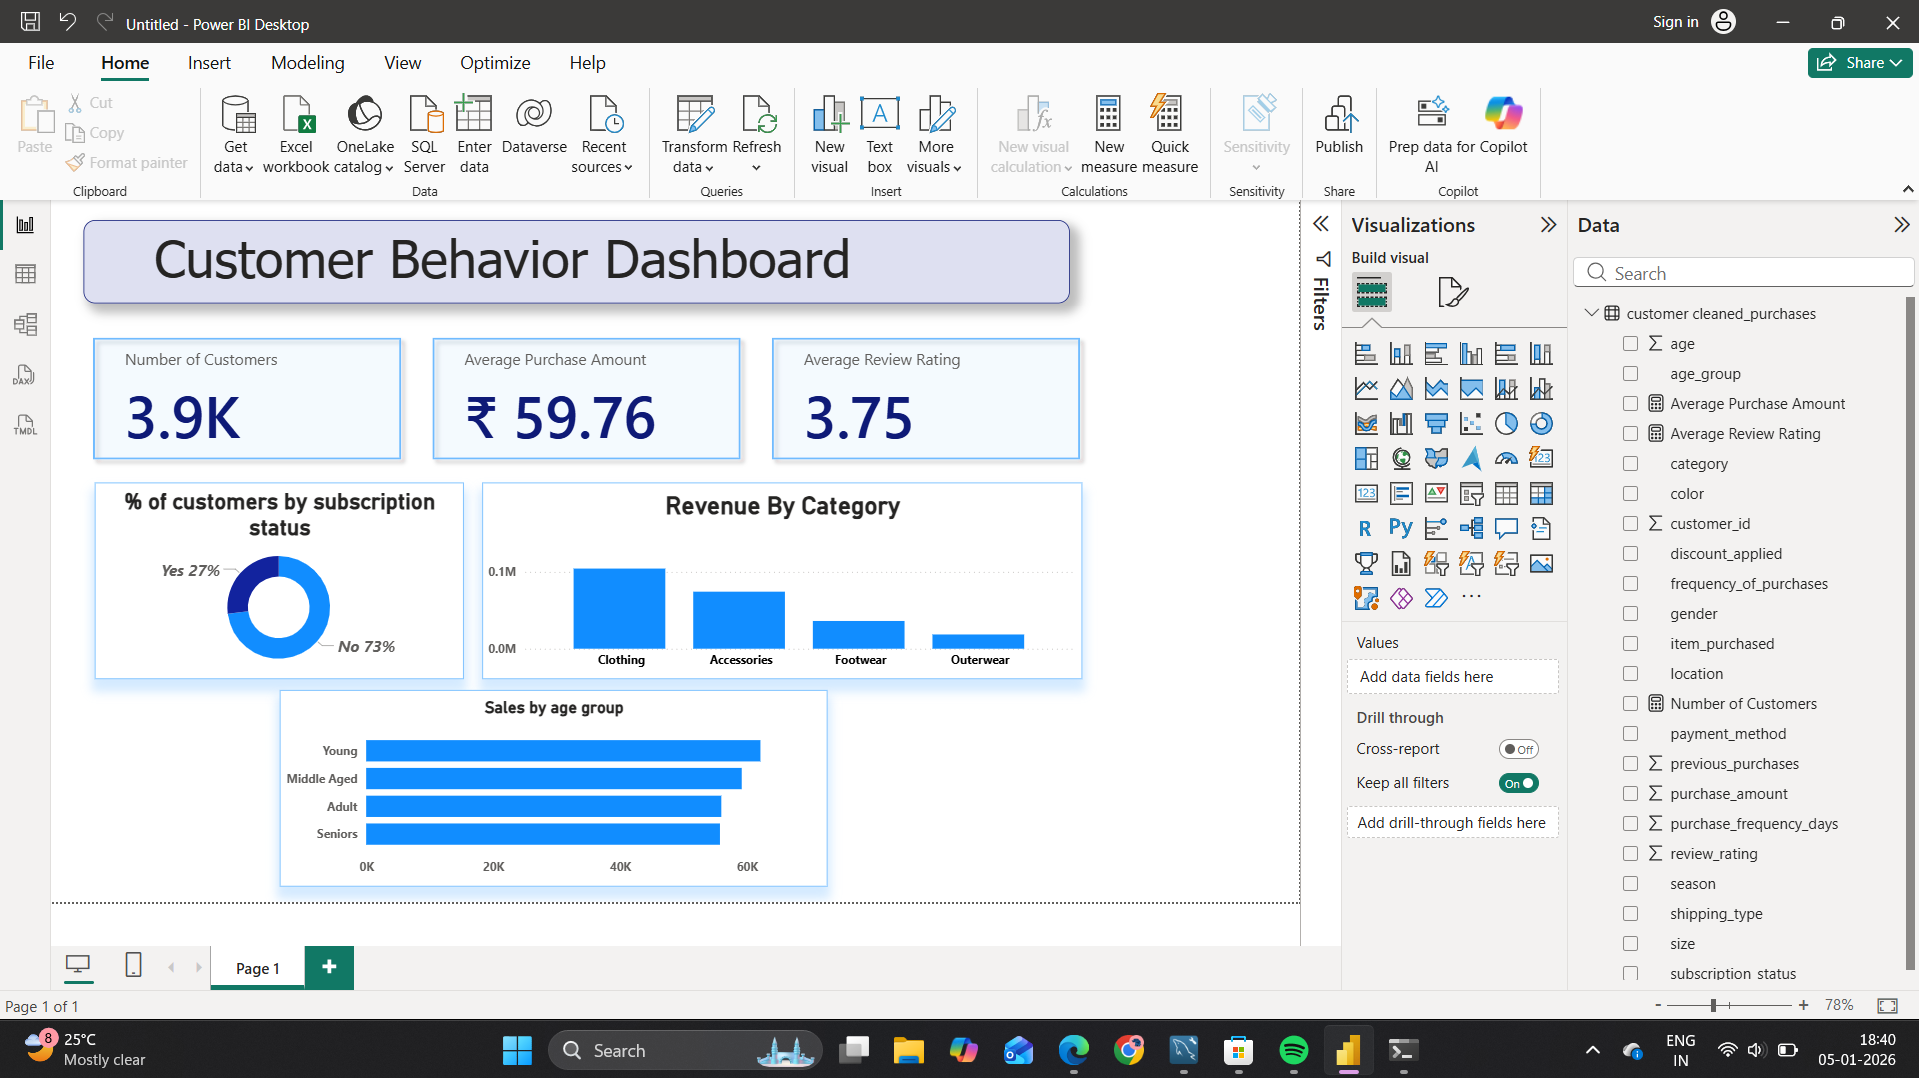

Layout of this report page (visuals, bound fields, positions):
{"tool":"powerbi","page":{"name":"Page 1","canvas":[1280,720],"ordinal":0},"visuals":[{"type":"cardVisual","fields":{"Data":["customer cleaned_purchases.Number of Customers","customer cleaned_purchases.Average Purchase Amount","customer cleaned_purchases.Average Review Rating"]},"box":[16.7,117.9,1063.7,171.7],"z":0},{"type":"textbox","box":[33.3,20.5,1011.1,85.9],"z":1000},{"type":"donutChart","title":"% of customers by subscription status","fields":{"Category":["customer cleaned_purchases.subscription_status"],"Y":["CountNonNull(customer cleaned_purchases.customer_id)"]},"box":[44.9,289.6,378.1,201.2],"z":2000},{"type":"clusteredColumnChart","title":"Revenue By Category","fields":{"Y":["Sum(customer cleaned_purchases.purchase_amount)"],"Category":["customer cleaned_purchases.category"]},"box":[442.1,289.6,615.1,201.2],"z":3000},{"type":"clusteredBarChart","title":"Sales by age group","fields":{"Category":["customer cleaned_purchases.age_group"],"Y":["Sum(customer cleaned_purchases.purchase_amount)"]},"box":[234.5,502.4,561.3,201.2],"z":3001}]}

Visuals, with their boxes on the page's 1280x720 design canvas (x1, y1, x2, y2). These are canvas units, not pixel positions in the 1919x1078 screenshot, which may show the page scaled, cropped or inside an application window:
cardVisual - customer cleaned_purchases.Number of Customers x customer cleaned_purchases.Average Purchase Amount: x1=17 y1=118 x2=1080 y2=290
textbox: x1=33 y1=20 x2=1044 y2=106
"% of customers by subscription status" donutChart: x1=45 y1=290 x2=423 y2=491
"Revenue By Category" clusteredColumnChart: x1=442 y1=290 x2=1057 y2=491
"Sales by age group" clusteredBarChart: x1=234 y1=502 x2=796 y2=704
